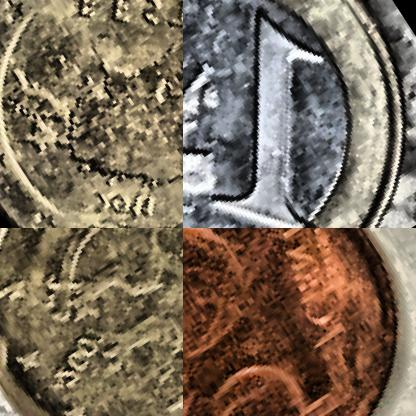coin: (183, 0, 415, 227), (183, 228, 415, 415), (0, 0, 182, 227), (0, 228, 182, 415)
